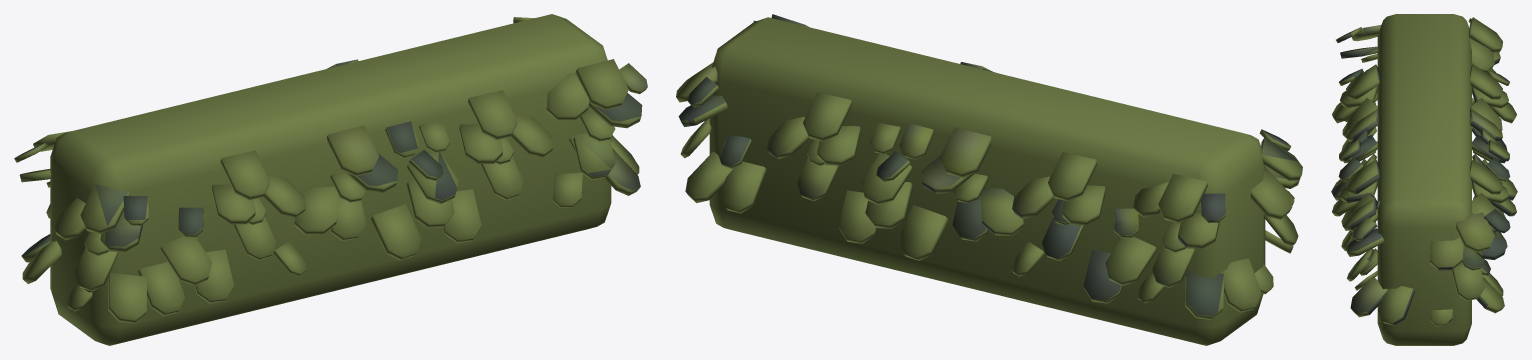
The model's file is bush_wall.fbx.
3 views of the same model, side by side, from view 1: azimuth 30°, elevation 25°; view 2: azimuth 150°, elevation 25°; view 3: azimuth 270°, elevation 25° (orthographic). The views are drawn at different scales.
Visible parts, largest first — view 1: Box024; view 2: Box024; view 3: Box024.
Part boxes in pixels (bbox=[...]): Box024: bbox=[14, 14, 647, 345]; Box024: bbox=[676, 14, 1302, 345]; Box024: bbox=[1331, 14, 1517, 345].
Size of the model in its own units: 733 by 228 by 261.
